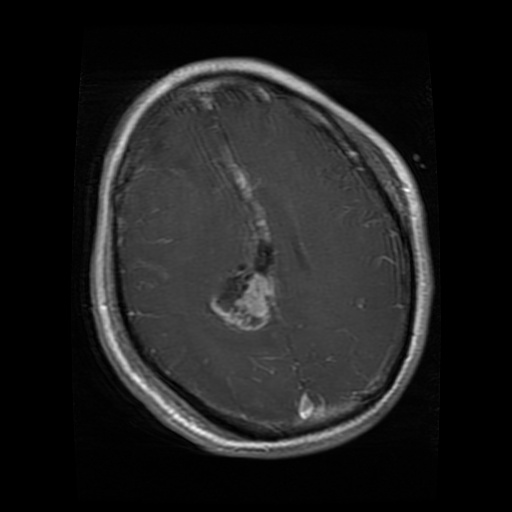glioma: (210, 239, 281, 332)
